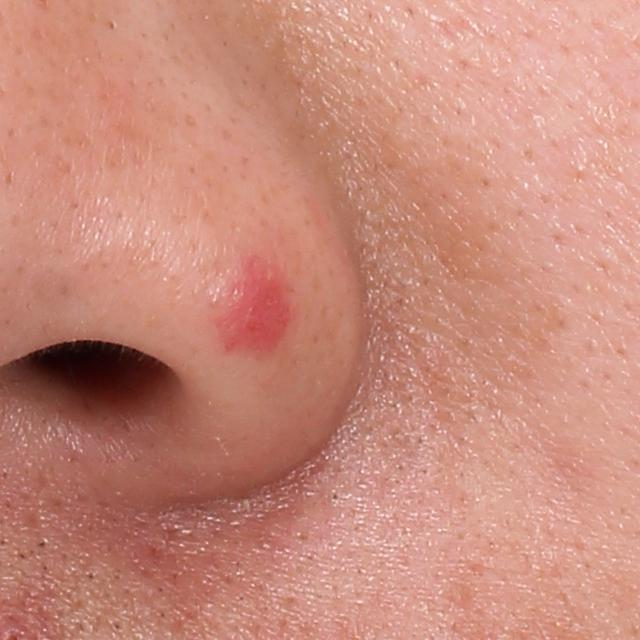papule: (228, 280, 290, 345)
